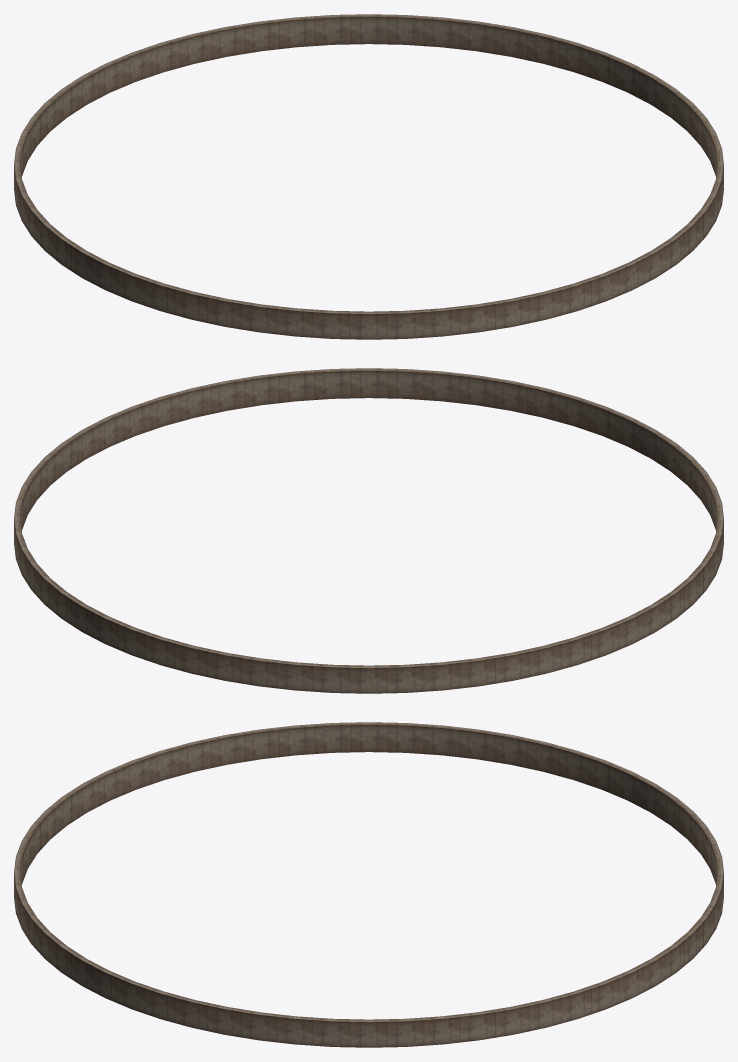
Rendered from wall.fbx.
3 renders of one model, top to bottom at view 1: azimuth 30°, elevation 25°; view 2: azimuth 150°, elevation 25°; view 3: azimuth 270°, elevation 25°, orthographic.
Visible parts, largest first — view 1: wall; view 2: wall; view 3: wall.
Part boxes in pixels (x1,y1,x2,y2): wall: [14, 14, 723, 339]; wall: [14, 368, 723, 693]; wall: [14, 722, 723, 1047].
Bounding box in the file's own units: 307 × 12.97 × 307.
1 material, 1 textured.
